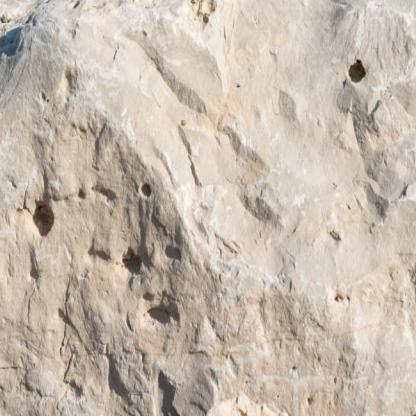Sedimentary_Limestone: (2, 0, 415, 415)
